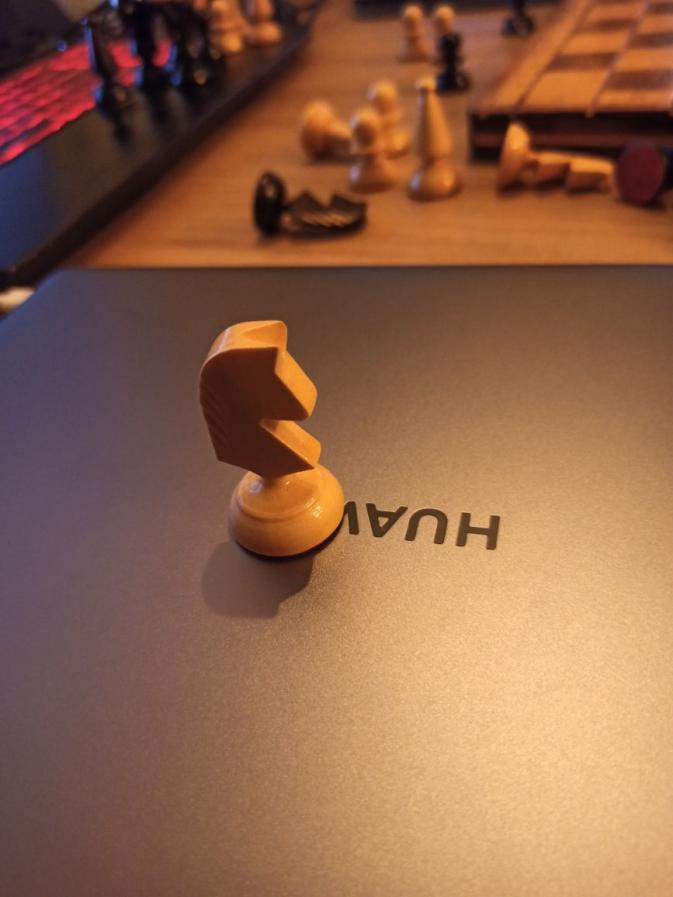wknight: (198, 319, 347, 562)
